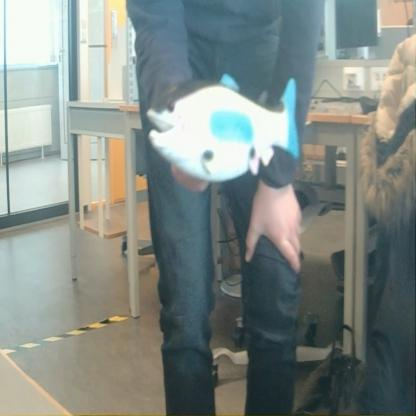rubberfish: (144, 68, 304, 187)
